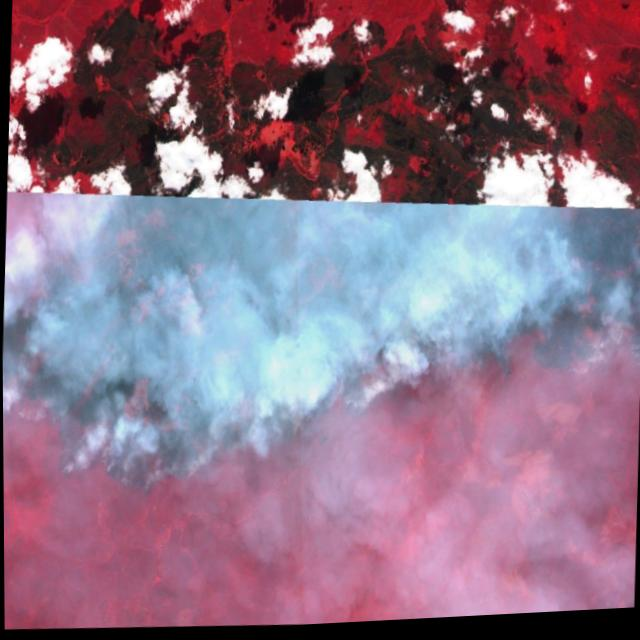fire: (1, 171, 640, 528)
